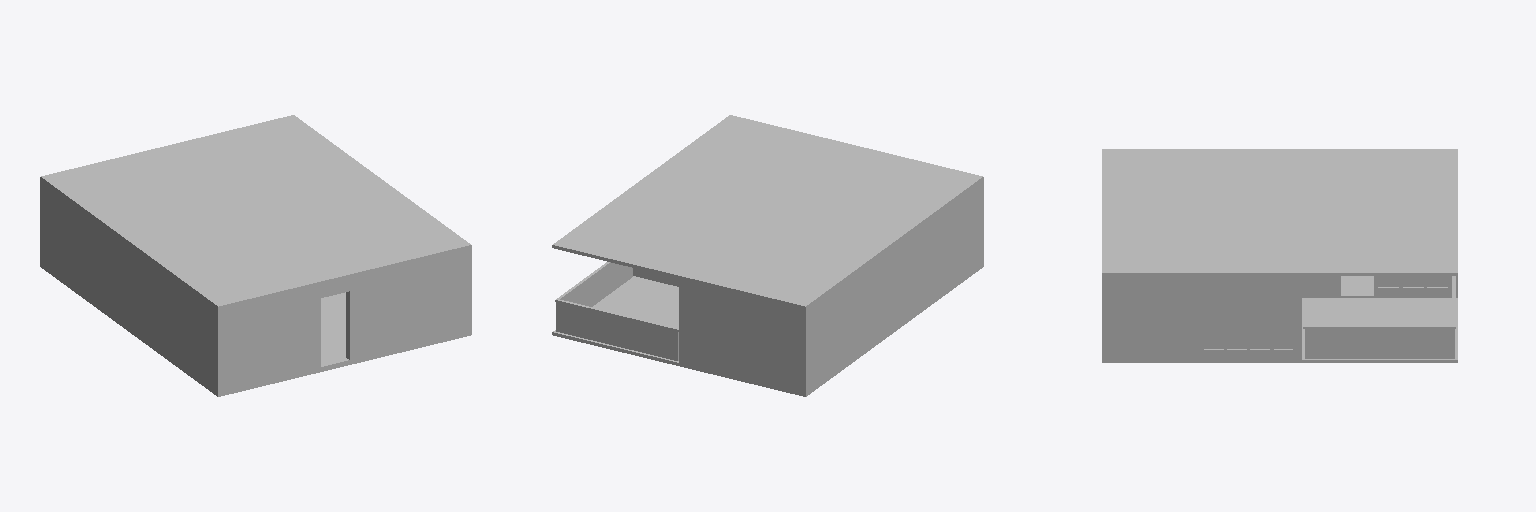
Rendered from WebVRoom.obj.
The picture shows the model from 3 angles: view 1: azimuth 30°, elevation 25°; view 2: azimuth 150°, elevation 25°; view 3: azimuth 270°, elevation 25°; orthographic projection.
Visible parts, largest first — view 1: Asset_Roof, Asset_Room; view 2: Asset_Roof, Asset_Room; view 3: Asset_Roof, Asset_Room.
Part boxes in pixels (bbox=[...]): Asset_Roof: bbox=[40, 115, 471, 309]; Asset_Room: bbox=[40, 180, 471, 396]; Asset_Roof: bbox=[552, 115, 983, 309]; Asset_Room: bbox=[552, 180, 983, 396]; Asset_Roof: bbox=[1102, 149, 1457, 275]; Asset_Room: bbox=[1102, 276, 1457, 362].
Bounding box in the file's own units: 7.9 × 2.7 × 9.6.